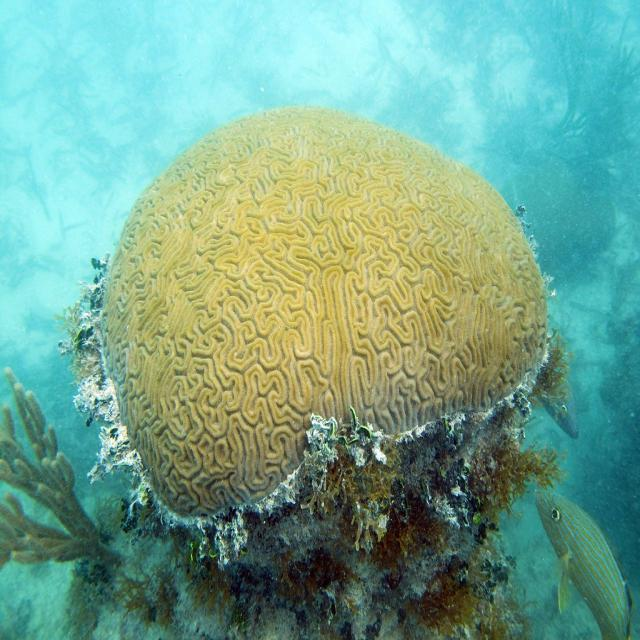Coral: (99, 109, 550, 518), (0, 368, 112, 575)
